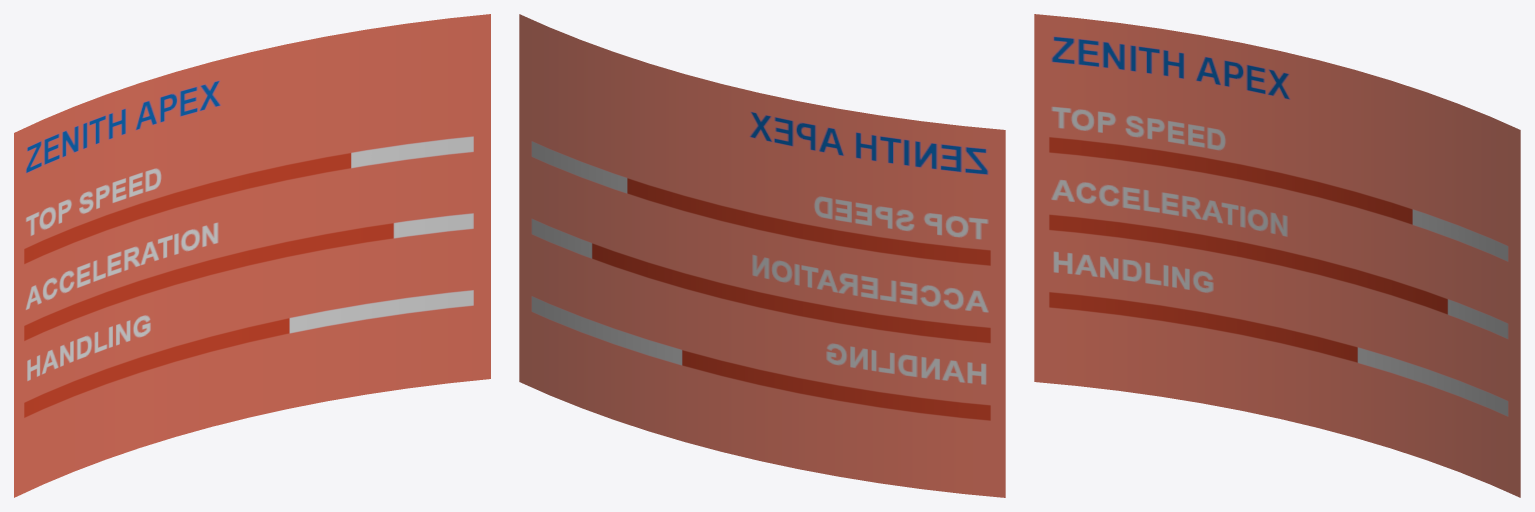
Rendered from specs_car3.glb.
3 views of the same model, side by side, from view 1: azimuth 30°, elevation 25°; view 2: azimuth 150°, elevation 25°; view 3: azimuth 330°, elevation 25° (orthographic).
Visible parts, largest first — view 1: specs; view 2: specs; view 3: specs.
Part boxes in pixels (left/top/right/bottom): specs: left=14, top=14, right=490, bottom=497; specs: left=519, top=14, right=1005, bottom=497; specs: left=1034, top=14, right=1520, bottom=497.
Bounding box in the file's own units: 2.56 × 1.86 × 0.2176.
1 material, 1 textured.
